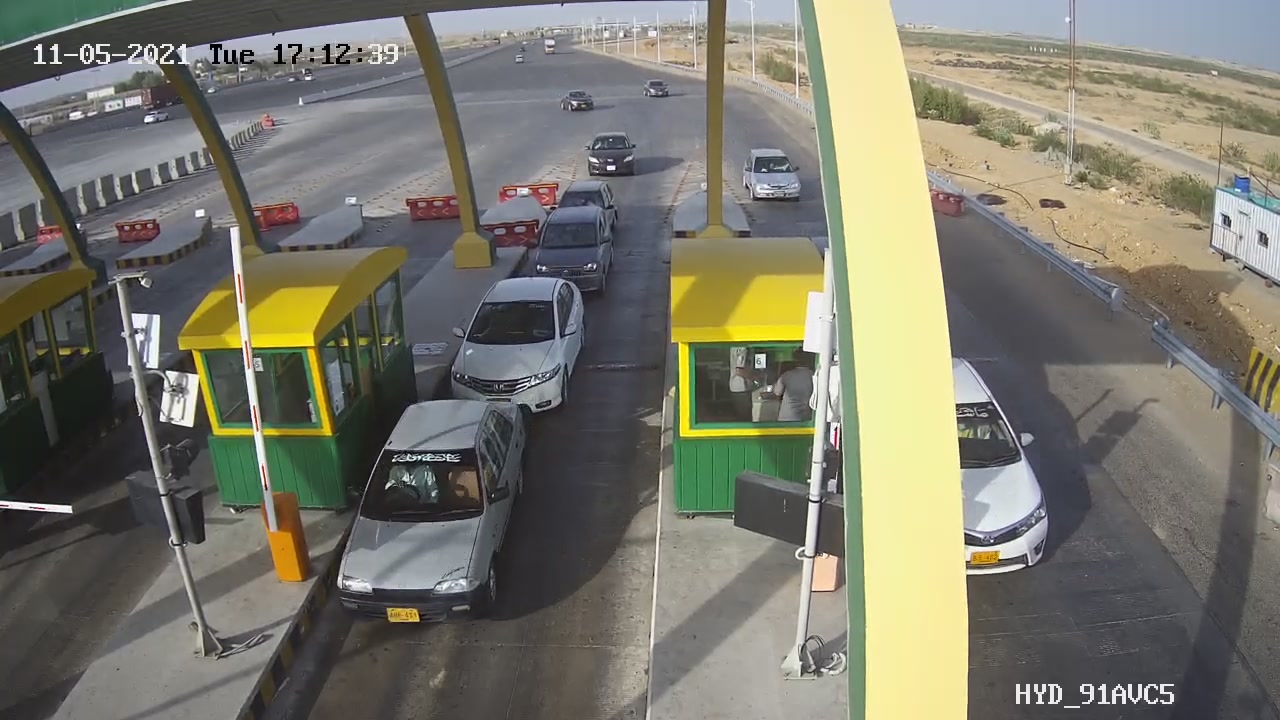F1: (324, 378, 555, 642), (434, 261, 601, 431), (520, 191, 625, 304)
